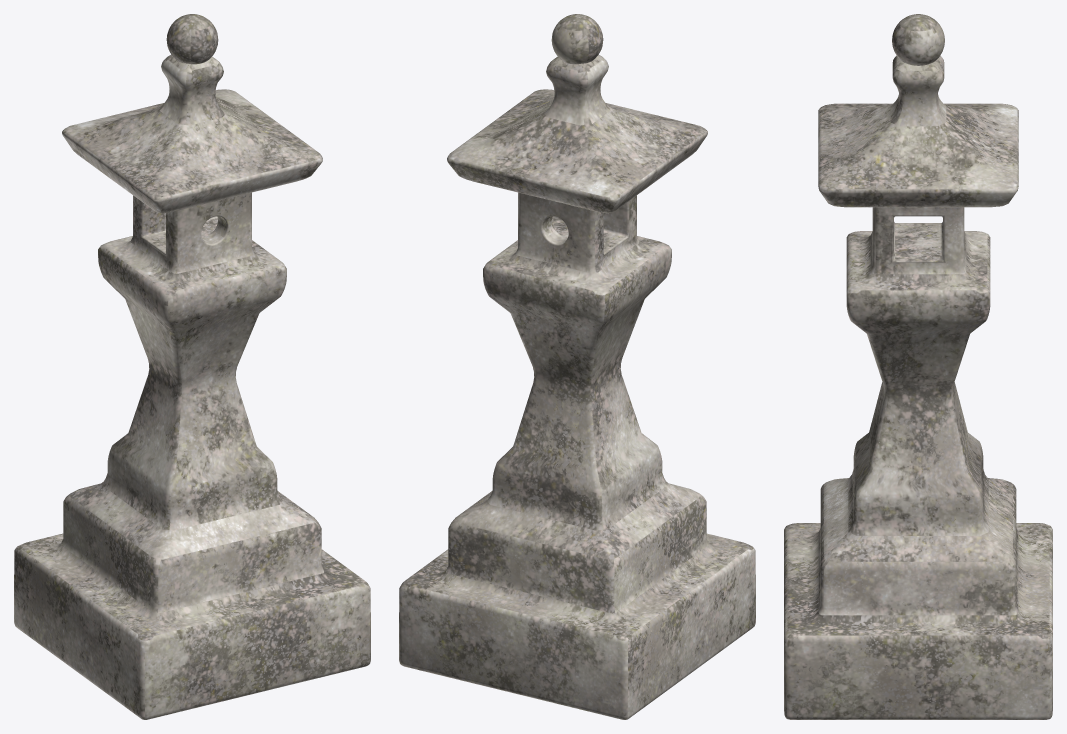
File: Toro_Model.fbx
3 views of the same model, side by side, from view 1: azimuth 30°, elevation 25°; view 2: azimuth 150°, elevation 25°; view 3: azimuth 270°, elevation 25° (orthographic). The views are drawn at different scales.
Parts seen in each view (by area): view 1: Toro_Model; view 2: Toro_Model; view 3: Toro_Model.
Part boxes in pixels (<box>): Toro_Model: <box>14,14,370,719</box>; Toro_Model: <box>399,14,755,719</box>; Toro_Model: <box>784,14,1052,719</box>.
Size of the model in its own units: 65.84 by 172 by 64.78.
